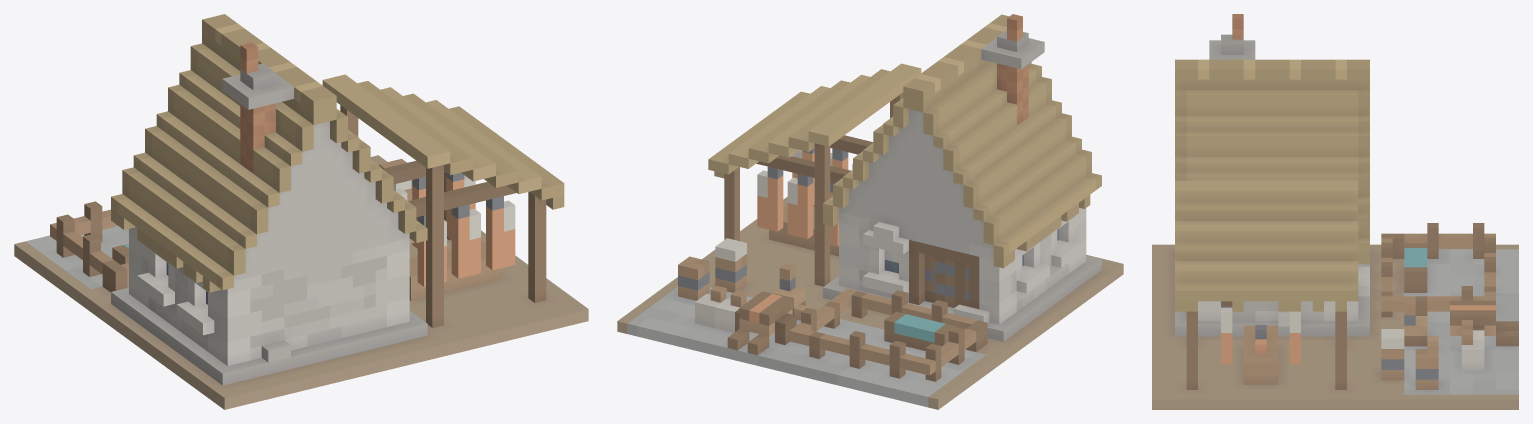
File: slaughterhouse.glb
3 renders of one model, left to right at view 1: azimuth 30°, elevation 25°; view 2: azimuth 150°, elevation 25°; view 3: azimuth 270°, elevation 25°, orthographic. The views are drawn at different scales.
Visible parts, largest first — view 1: slaughterhouse; view 2: slaughterhouse; view 3: slaughterhouse.
Boxes of the visible parts, left/top/right/bottom form: slaughterhouse: left=14, top=14, right=588, bottom=409; slaughterhouse: left=617, top=14, right=1123, bottom=409; slaughterhouse: left=1152, top=14, right=1518, bottom=409.
Bounding box in the file's own units: 4 × 3.25 × 4.
